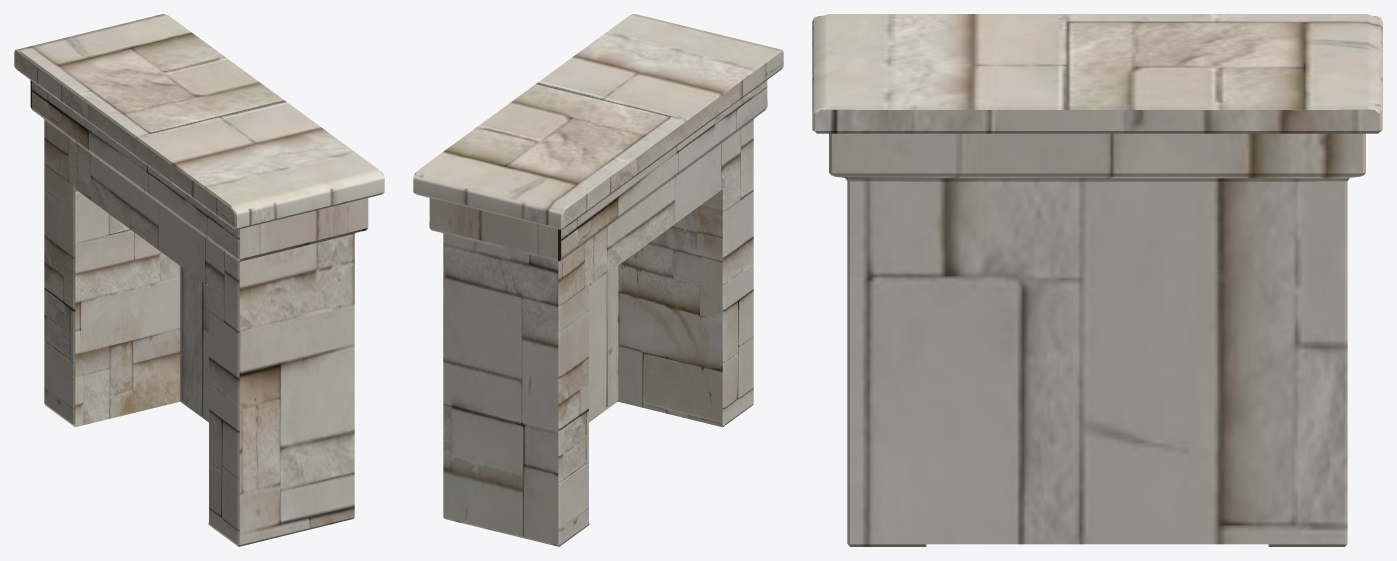
Rendered from Fireplace.fbx.
3 renders of one model, left to right at view 1: azimuth 30°, elevation 25°; view 2: azimuth 150°, elevation 25°; view 3: azimuth 270°, elevation 25°, orthographic. The views are drawn at different scales.
Parts seen in each view (by area): view 1: pCube48; view 2: pCube48; view 3: pCube48.
Part boxes in pixels (x1,y1,x2,y2): pCube48: (14, 14, 384, 546); pCube48: (413, 14, 783, 546); pCube48: (812, 14, 1382, 546).
Size of the model in its own units: 122 by 273 by 313.
